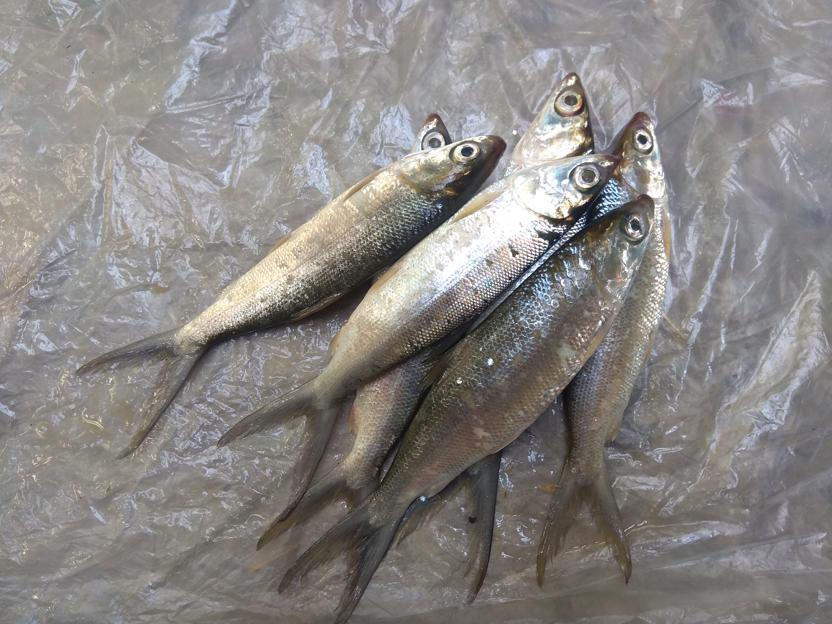Fish head: (398, 132, 508, 207), (512, 151, 621, 224), (514, 70, 594, 167), (585, 196, 655, 285), (605, 111, 670, 200), (412, 111, 452, 153)
Fish tail: (253, 460, 384, 614), (72, 326, 208, 460), (215, 381, 341, 522), (396, 449, 502, 607), (277, 500, 408, 620), (534, 452, 634, 590)
